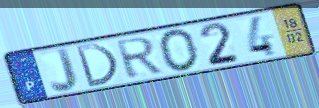2: (197, 21, 241, 67)
4: (244, 15, 281, 59)
D: (73, 42, 120, 89)
J: (48, 47, 81, 94)
O: (157, 27, 201, 74)
R: (113, 35, 165, 81)
